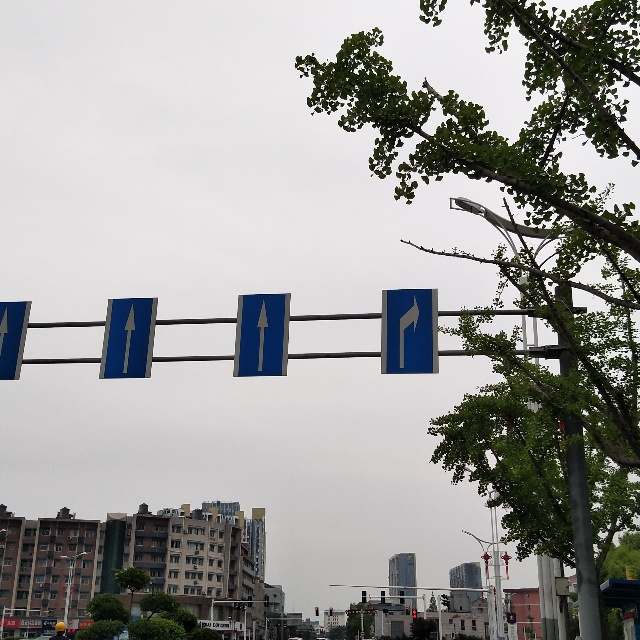right: (381, 288, 440, 375)
straight: (233, 293, 292, 377), (100, 297, 158, 380)
